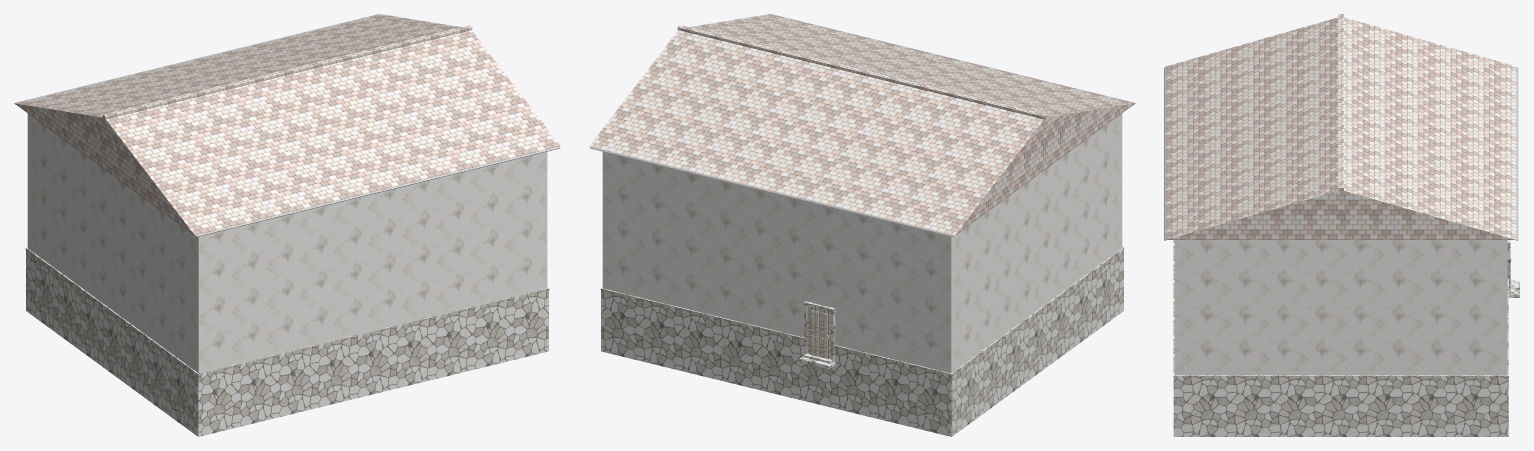
3 views of the same model, side by side, from view 1: azimuth 30°, elevation 25°; view 2: azimuth 150°, elevation 25°; view 3: azimuth 270°, elevation 25° (orthographic). The views are drawn at different scales.
Visible parts, largest first — view 1: b1085400578; view 2: b1085400578; view 3: b1085400578.
Part boxes in pixels (x1=…): b1085400578: x1=14, y1=14, x2=560, y2=436; b1085400578: x1=589, y1=14, x2=1135, y2=436; b1085400578: x1=1164, y1=14, x2=1519, y2=436.
Size of the model in its own units: 15.02 by 10.18 by 12.98.
11 materials, 11 textured.
